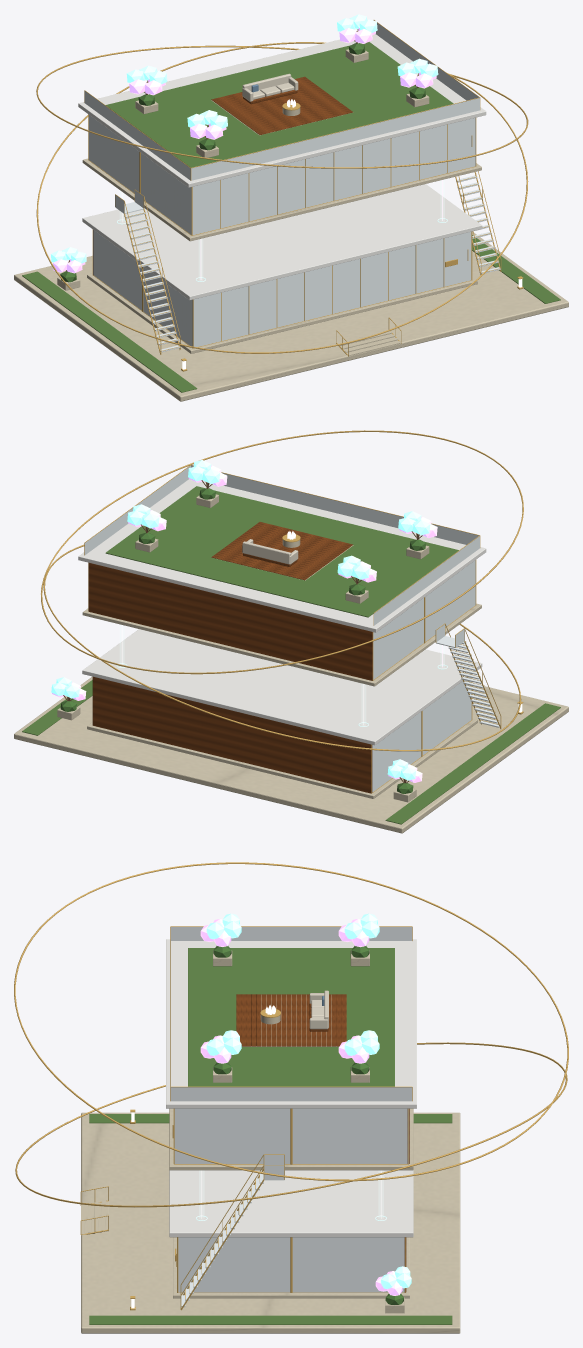
The model's file is House5.fbx.
3 views of the same model, one above another, from view 1: azimuth 30°, elevation 25°; view 2: azimuth 150°, elevation 25°; view 3: azimuth 270°, elevation 25° (orthographic). The views are drawn at different scales.
Parts seen in each view (by area): view 1: House5, Base; view 2: House5, Base; view 3: House5, Base.
Part boxes in pixels (x1=…): House5: x1=22, y1=14, x2=560, y2=392; Base: x1=14, y1=231, x2=568, y2=401; House5: x1=22, y1=430, x2=560, y2=824; Base: x1=14, y1=676, x2=568, y2=833; House5: x1=14, y1=862, x2=568, y2=1324; Base: x1=81, y1=1112, x2=460, y2=1333.
Bounding box in the file's own units: 8030 × 4106 × 8048.
19 materials, 3 textured.
